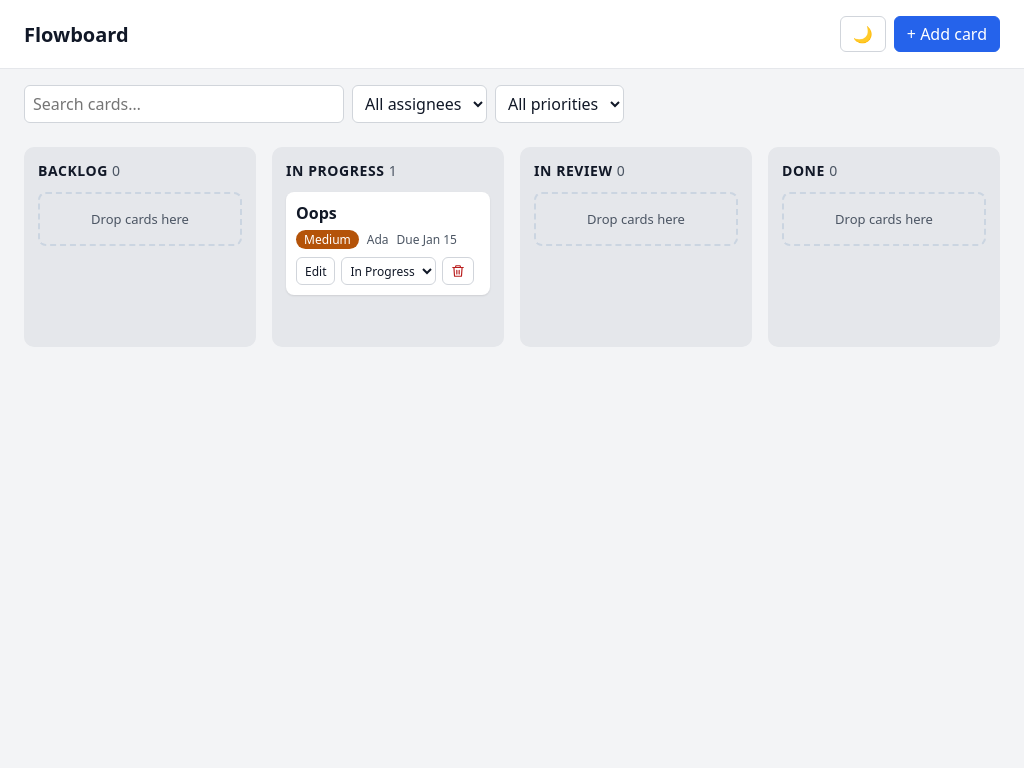
Test: deleting cards › Undo restores the same card (same id and position)
Expected: the element "Backlog" is shown, [24,147,256,347]
Click the button named "Delete Oops".
click(458, 271)  # box [442,257,474,285]
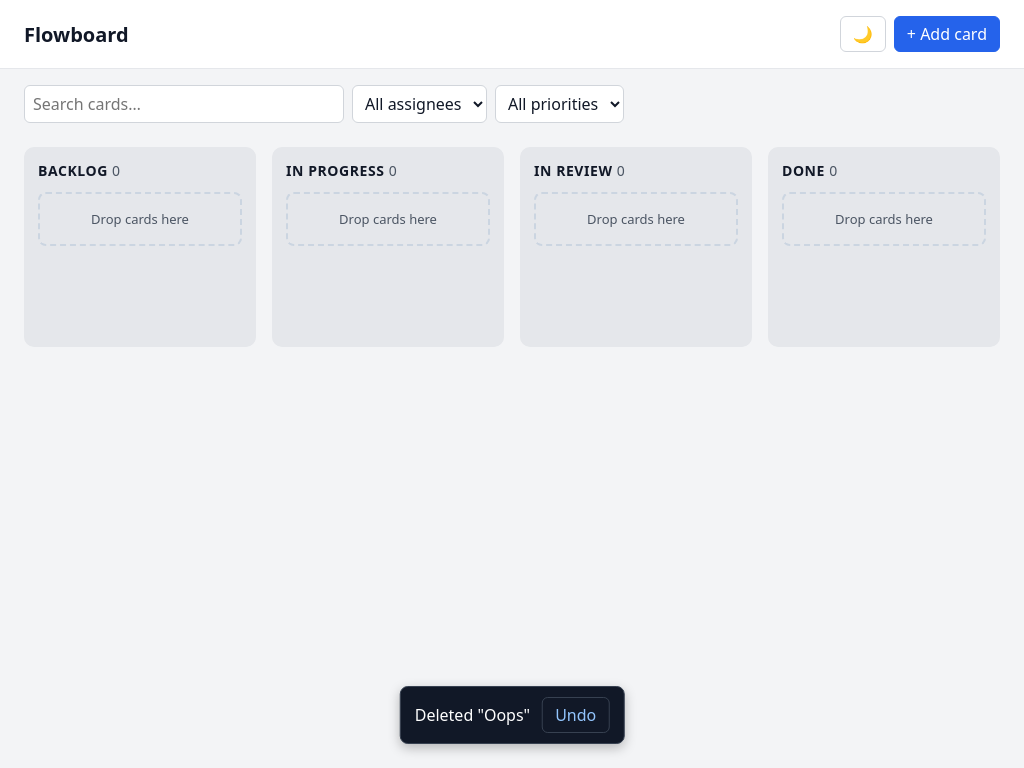
Expected: the text "Deleted \"Oops\"" is shown, [415,704,530,726]
Click the button "Undo".
click(576, 715)  # box [542,697,609,733]
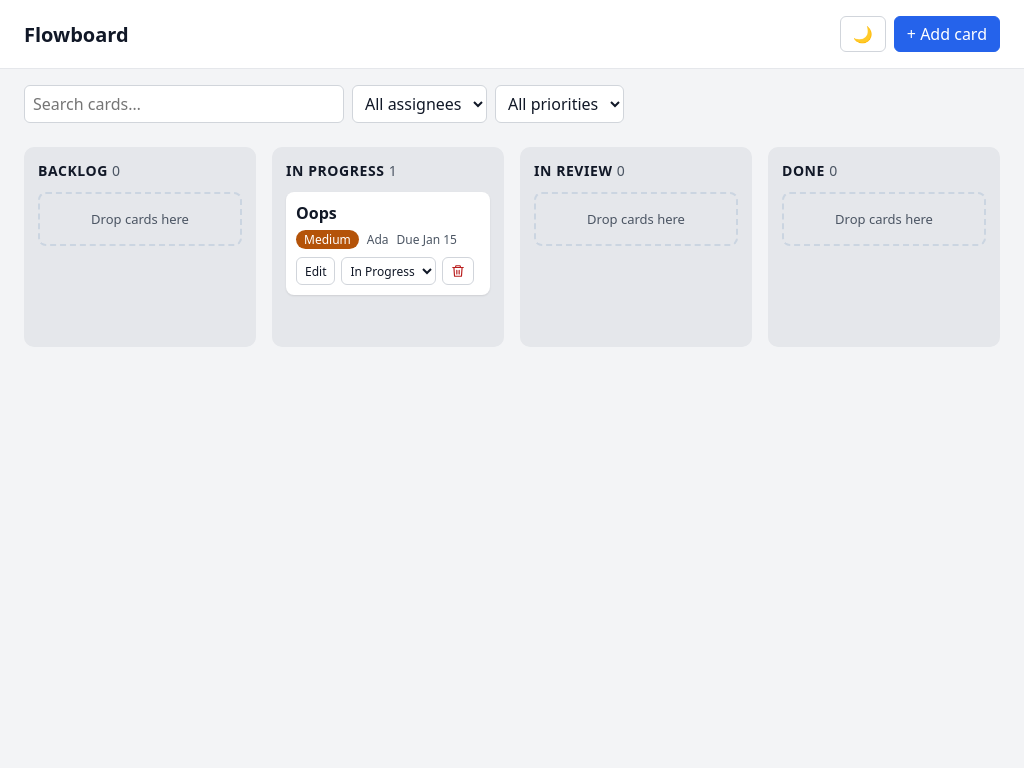
Expected: the button "Undo" is gone
